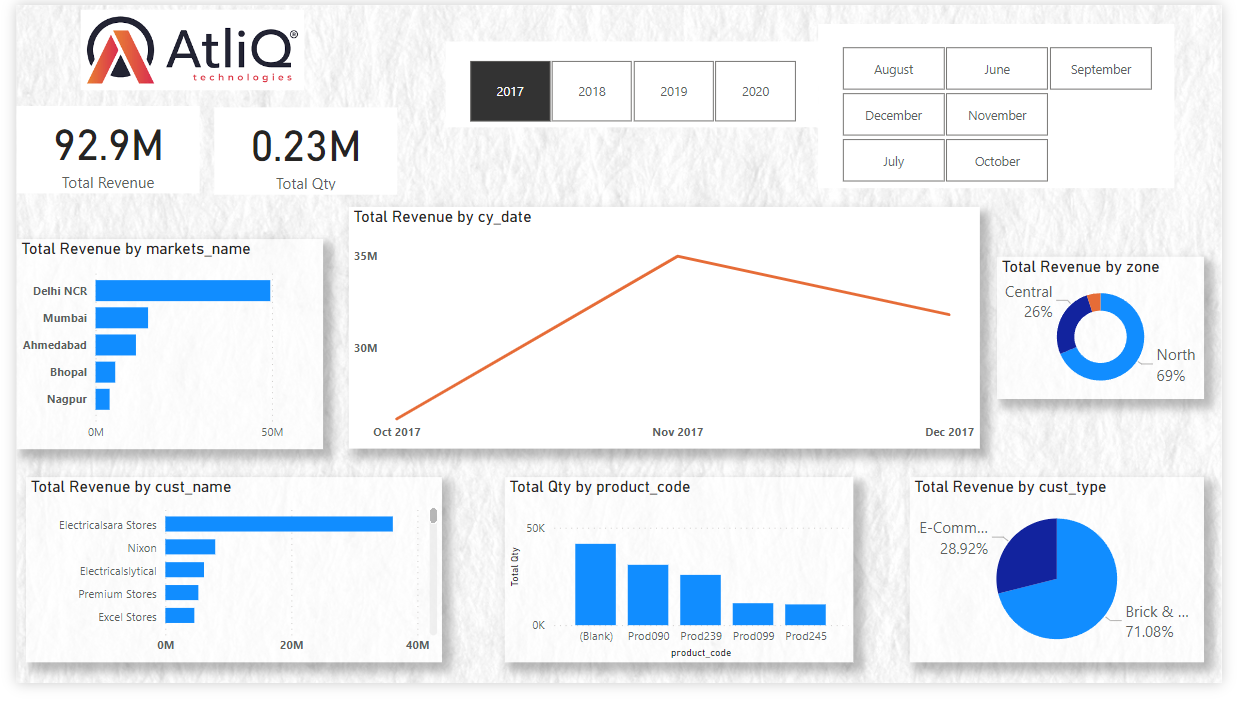

The page's visual inventory and layout, read from the dashboard file:
{"tool":"powerbi","page":{"name":"Page 1","canvas":[1280,720],"ordinal":0},"visuals":[{"type":"card","fields":{"Values":["created_measures.Total Revenue"]},"box":[34.3,61.7,193.5,91.9],"z":0},{"type":"card","fields":{"Values":["created_measures.Total Qty"]},"box":[227.8,61.7,193.5,91.9],"z":1000},{"type":"barChart","fields":{"Category":["public markets.markets_name"],"Y":["created_measures.Total Revenue"]},"box":[0,214.1,387,223.7],"z":2000},{"type":"barChart","fields":{"Category":["public customers.cust_name"],"Y":["created_measures.Total Revenue"]},"box":[9.6,500.9,387,207.2],"z":3000},{"type":"slicer","fields":{"Values":["public date.years"]},"box":[412.5,0,398.8,95],"z":4000},{"type":"pieChart","fields":{"Category":["public customers.cust_type"],"Y":["created_measures.Total Revenue"]},"box":[826.2,540,312.5,158.8],"z":5000},{"type":"donutChart","fields":{"Category":["public markets.zone"],"Y":["created_measures.Total Revenue"]},"box":[172.5,348.8,248.8,152.5],"z":6000},{"type":"slicer","fields":{"Values":["public date.month_name"]},"box":[792.5,0,380,173.8],"z":8000},{"type":"lineChart","fields":{"Y":["created_measures.Total Revenue"],"Category":["public date.cy_date"]},"box":[435,181.2,673.8,256.2],"z":9000},{"type":"lineClusteredColumnComboChart","fields":{"Y":["created_measures.Total Qty"],"Category":["public products.product_code"]},"box":[435,540,353.8,150],"z":9001}]}

Visuals, with their boxes in screenshot pixels (x1, y1, x2, y2), scaled from the page's 1280x720 canvas onto the 1246x702 screenshot:
card - created_measures.Total Revenue: {"x1": 33, "y1": 60, "x2": 222, "y2": 150}
card - created_measures.Total Qty: {"x1": 222, "y1": 60, "x2": 410, "y2": 150}
barChart - public markets.markets_name x created_measures.Total Revenue: {"x1": 0, "y1": 209, "x2": 377, "y2": 427}
barChart - public customers.cust_name x created_measures.Total Revenue: {"x1": 9, "y1": 488, "x2": 386, "y2": 690}
slicer - public date.years: {"x1": 402, "y1": 0, "x2": 790, "y2": 93}
pieChart - public customers.cust_type x created_measures.Total Revenue: {"x1": 804, "y1": 526, "x2": 1108, "y2": 681}
donutChart - public markets.zone x created_measures.Total Revenue: {"x1": 168, "y1": 340, "x2": 410, "y2": 489}
slicer - public date.month_name: {"x1": 771, "y1": 0, "x2": 1141, "y2": 169}
lineChart - created_measures.Total Revenue x public date.cy_date: {"x1": 423, "y1": 177, "x2": 1079, "y2": 426}
lineClusteredColumnComboChart - created_measures.Total Qty x public products.product_code: {"x1": 423, "y1": 526, "x2": 768, "y2": 673}
